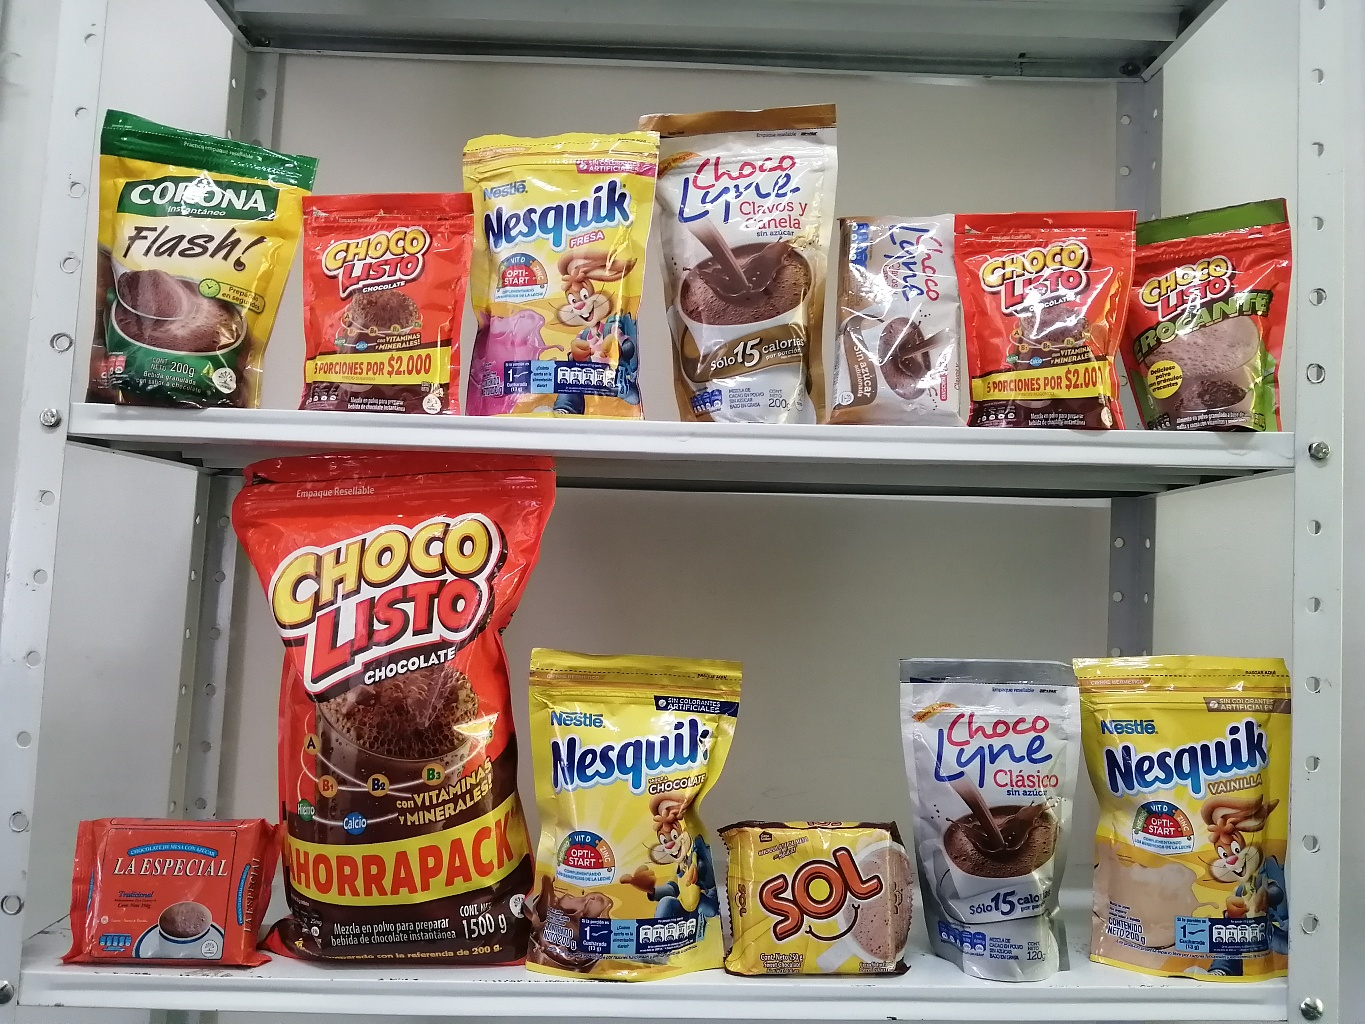COL0170102DYP10000: (1109, 185, 1309, 436)
COL0170103DYP1,500: (203, 432, 554, 976)
COL0170303DYP20000: (483, 618, 754, 993)
COL0170305DYP20000: (447, 106, 658, 421)
COL0170306DYP20000: (1058, 618, 1311, 985)
